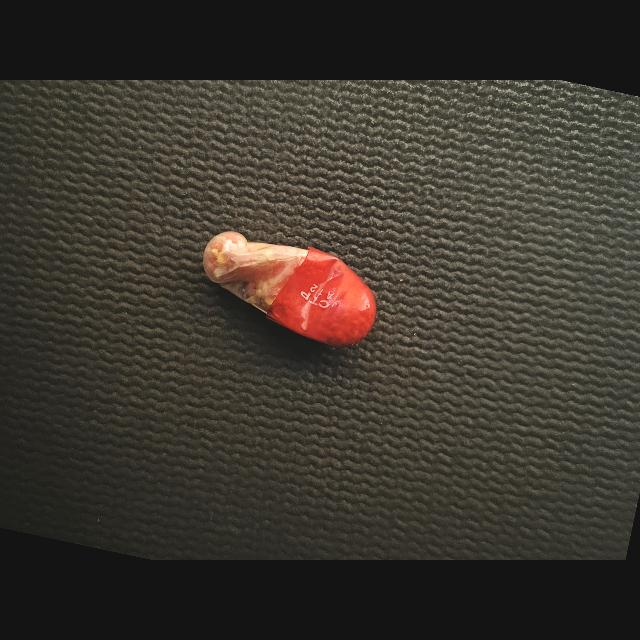Defective Capsule: (202, 231, 376, 346)
